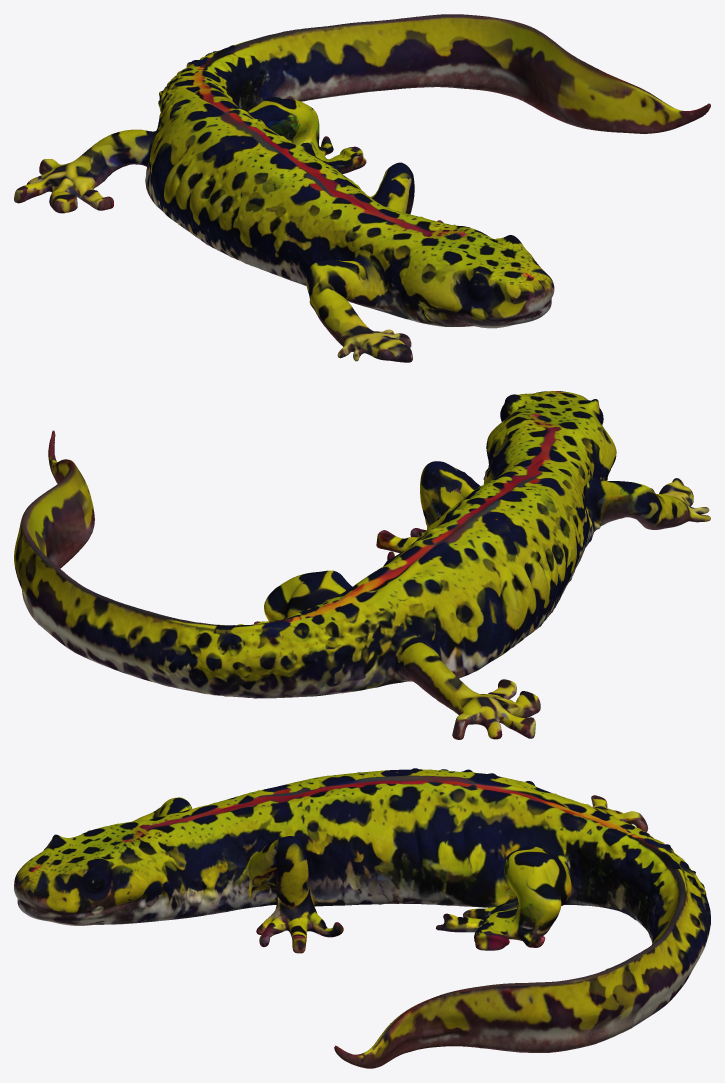
The model's file is newt.glb.
3 views of the same model, one above another, from view 1: azimuth 30°, elevation 25°; view 2: azimuth 150°, elevation 25°; view 3: azimuth 270°, elevation 25° (orthographic). The views are drawn at different scales.
Visible parts, largest first — view 1: tripo_node_5d614ae4-51d8-4c8a-86d3-eb510491754d_0; view 2: tripo_node_5d614ae4-51d8-4c8a-86d3-eb510491754d_0; view 3: tripo_node_5d614ae4-51d8-4c8a-86d3-eb510491754d_0.
Part boxes in pixels (x1=…): tripo_node_5d614ae4-51d8-4c8a-86d3-eb510491754d_0: x1=14, y1=14, x2=710, y2=362; tripo_node_5d614ae4-51d8-4c8a-86d3-eb510491754d_0: x1=14, y1=391, x2=710, y2=739; tripo_node_5d614ae4-51d8-4c8a-86d3-eb510491754d_0: x1=14, y1=768, x2=710, y2=1068.
Size of the model in its own units: 0.9949 by 0.1726 by 1.
1 material, 1 textured.
